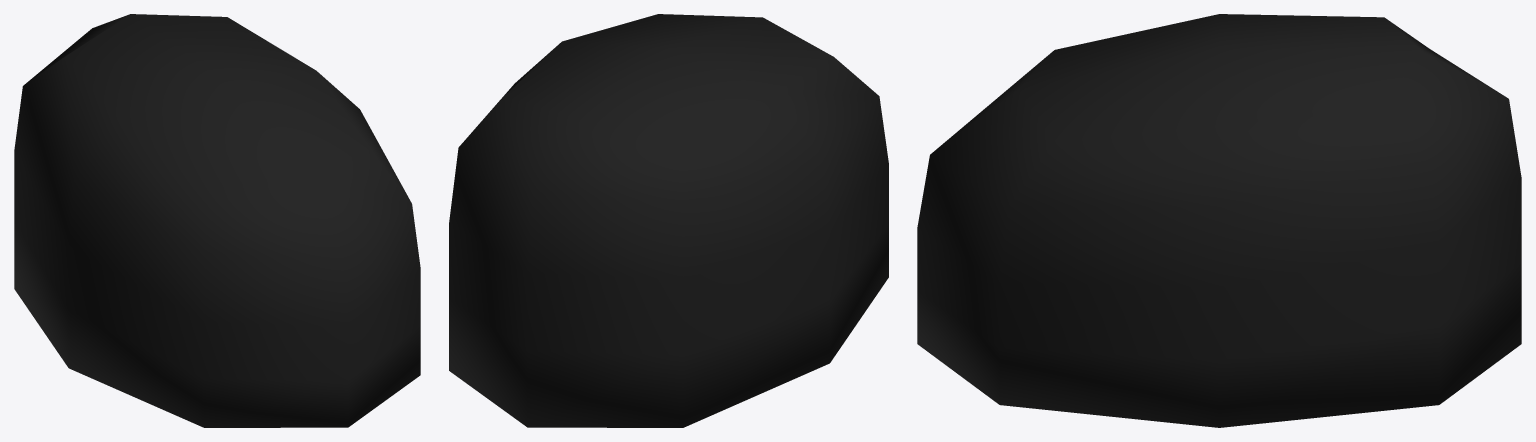
Rendered from witch_foot.obj.
The picture shows the model from 3 angles, left to right: view 1: azimuth 30°, elevation 25°; view 2: azimuth 150°, elevation 25°; view 3: azimuth 270°, elevation 25°; orthographic projection. The views are drawn at different scales.
Visible parts, largest first — view 1: witch_foot; view 2: witch_foot; view 3: witch_foot.
Boxes of the visible parts, left/top/right/bottom form: witch_foot: left=14, top=14, right=420, bottom=427; witch_foot: left=449, top=14, right=888, bottom=427; witch_foot: left=917, top=14, right=1521, bottom=427.
Bounding box in the file's own units: 0.2099 × 0.1715 × 0.3193.
1 material, 1 textured.
